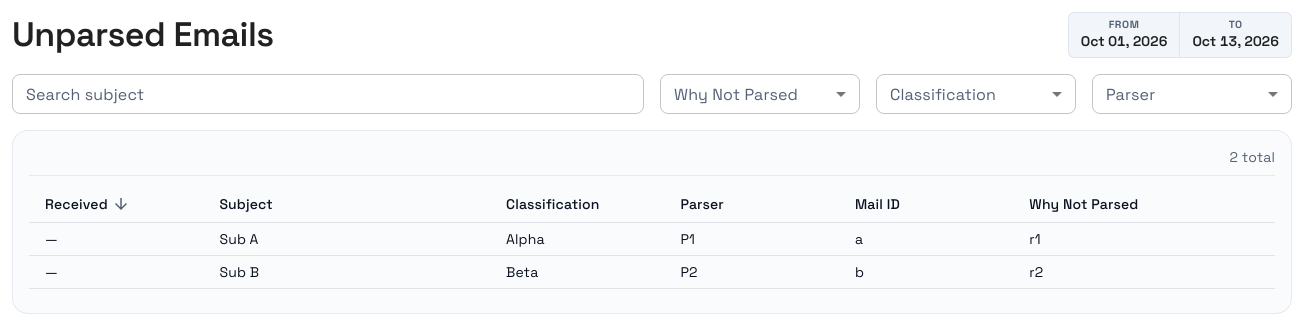
Test case: UnparsedEmails › filters rows by classification and parser
Expected: the text "Sub A" is shown, [203,222,490,255]
Expected: the text "Sub B" is shown, [203,255,490,288]
Click the 2nd dropdown named "Classification" at (976, 94), box [876,74,1076,114]
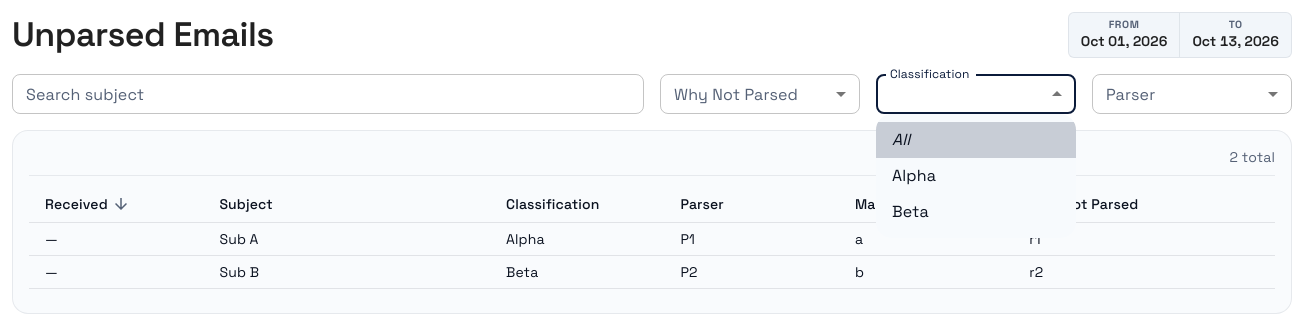
Click the option "Beta" at (910, 212), box [892,201,929,222]
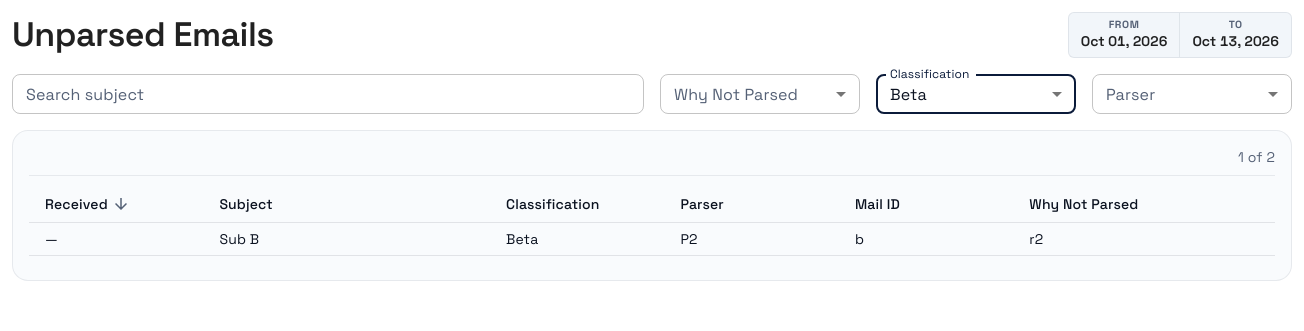
Expected: the text "Sub B" is shown, [203,222,490,255]
Expected: the button "Sub A" is gone
Click the 3rd dropdown at (1192, 94), box [1092,74,1292,114]
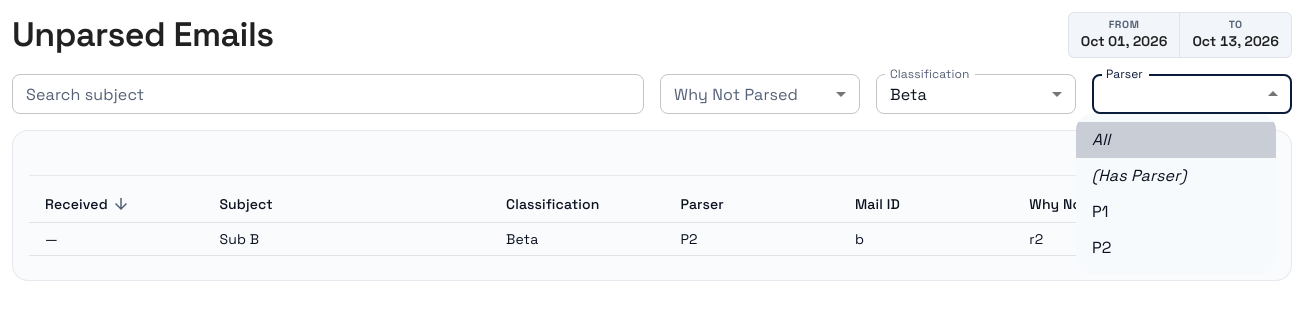
Click the option "P2" at (1102, 248), box [1092,237,1112,258]
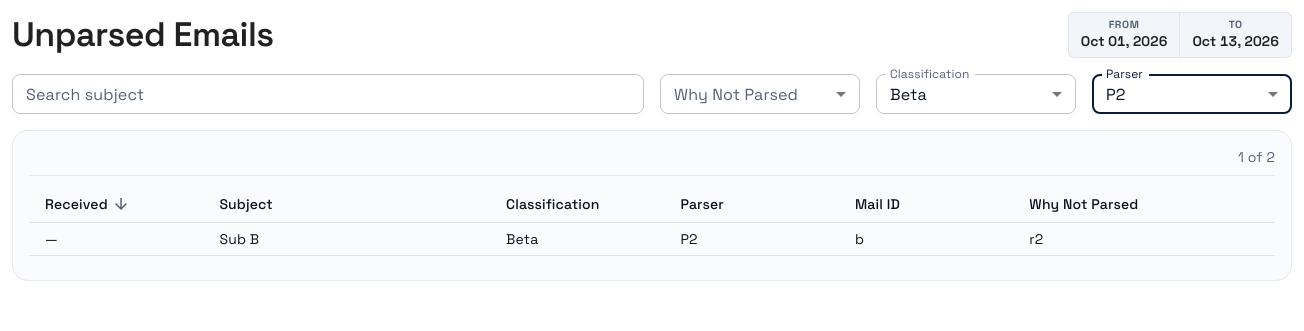
Expected: the text "Sub B" is shown, [203,222,490,255]
Click the dropdown labelled "P2" at (1116, 94), box [1106,84,1126,104]
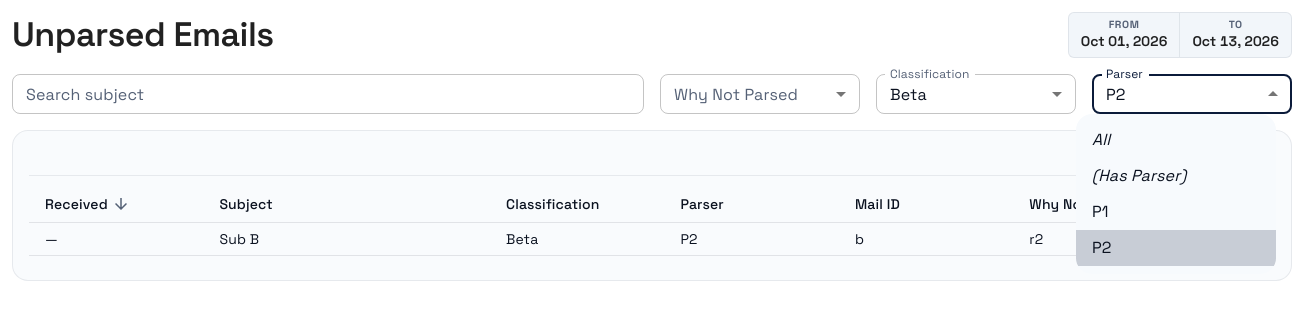
Click the option "P1" at (1100, 212), box [1092,201,1109,222]
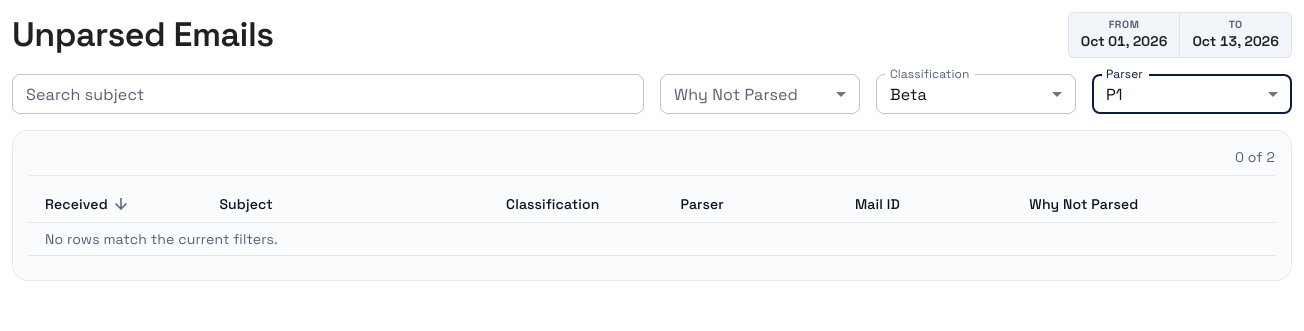
Expected: the text "No rows match the current filters." is shown, [45,230,278,248]
